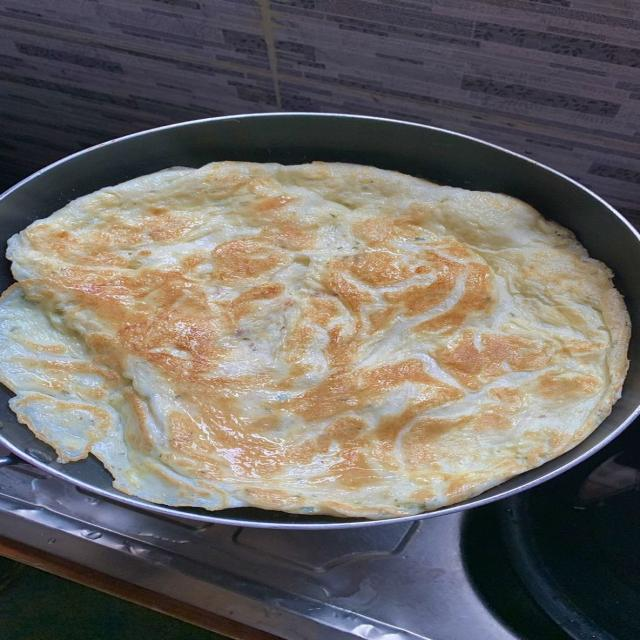omelette: (0, 163, 629, 518)
